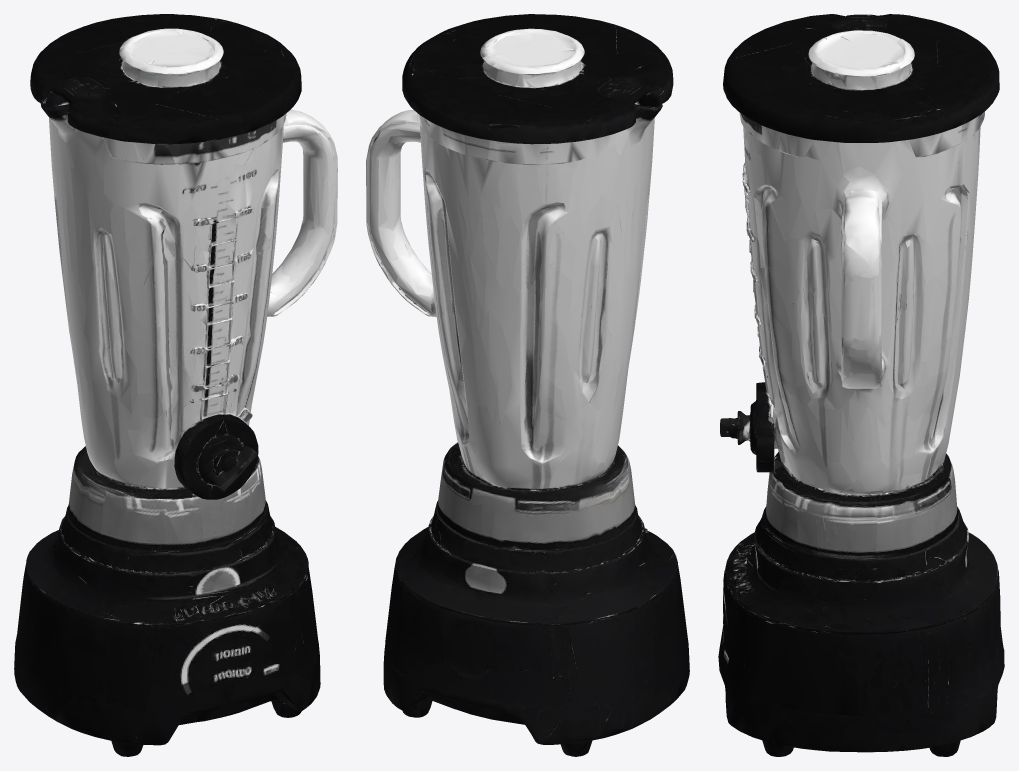
Rendered from kitchen17-blender-03.glb.
3 views of the same model, side by side, from view 1: azimuth 30°, elevation 25°; view 2: azimuth 150°, elevation 25°; view 3: azimuth 270°, elevation 25° (orthographic).
Size of the model in its own units: 0.8885 by 1.9 by 0.7404.
Materials: 1 (1 with a texture image).
